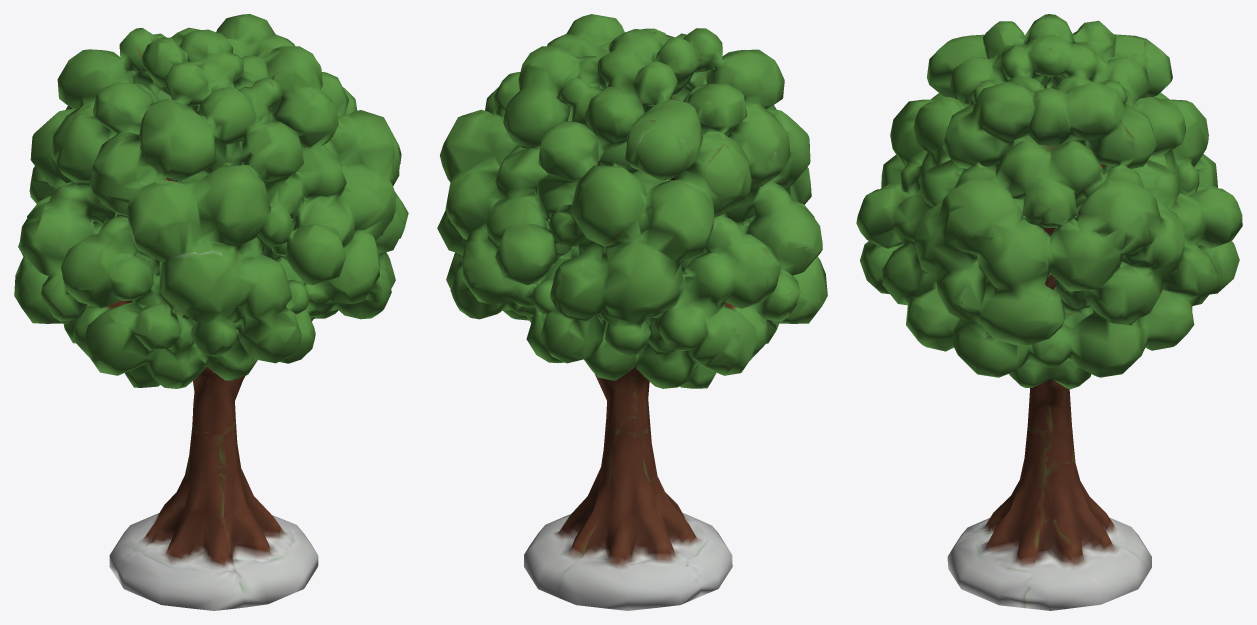
Rendered from arbol1.glb.
The picture shows the model from 3 angles, left to right: view 1: azimuth 30°, elevation 25°; view 2: azimuth 150°, elevation 25°; view 3: azimuth 270°, elevation 25°; orthographic projection. The views are drawn at different scales.
Size of the model in its own units: 1.25 by 1.9 by 1.26.
1 material, 1 textured.
